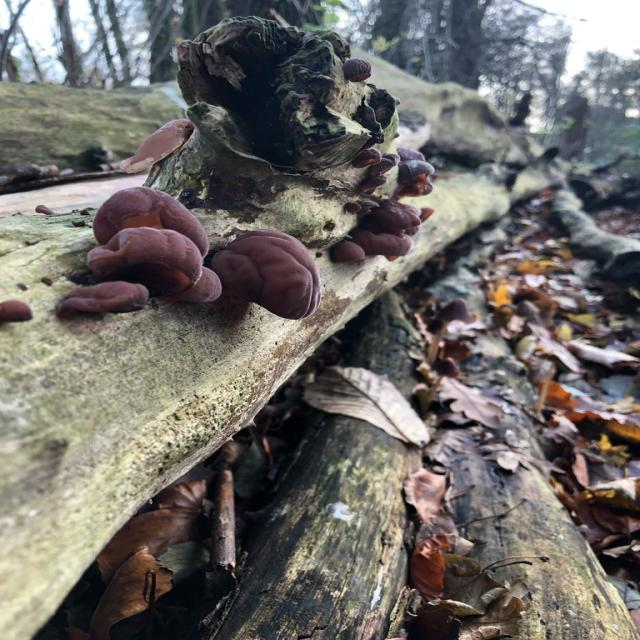Matang: (207, 223, 336, 329), (91, 181, 232, 254), (77, 226, 205, 294), (59, 275, 154, 323), (124, 114, 195, 170), (361, 197, 438, 235), (396, 142, 439, 203), (176, 264, 230, 311), (339, 233, 429, 260), (330, 240, 370, 262)
